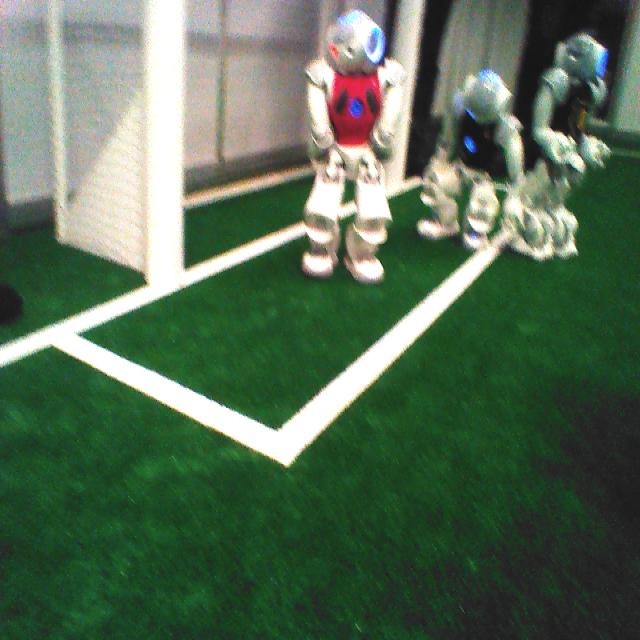goalpost: (144, 2, 184, 286), (377, 0, 425, 184)
